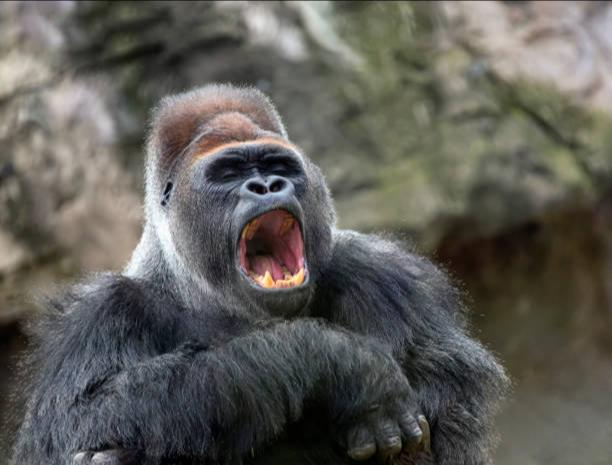goriile_montagne: (29, 50, 524, 465)
